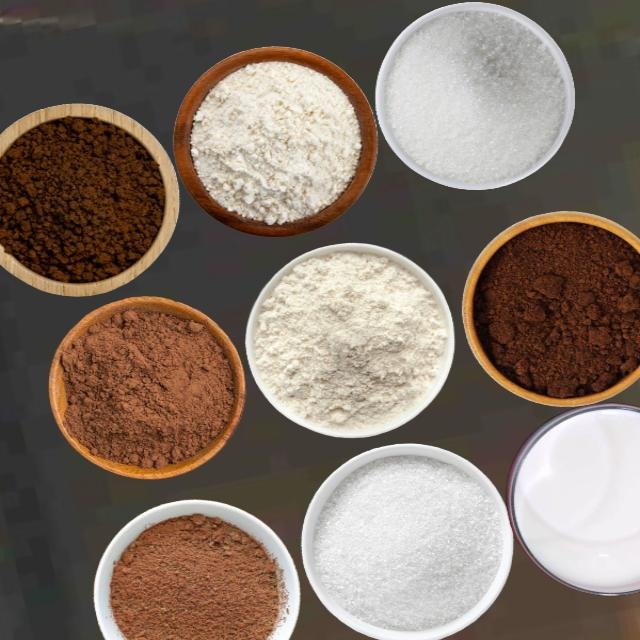Cocoa: (58, 297, 238, 475), (108, 512, 287, 639)
Coffee: (472, 218, 639, 399), (0, 114, 165, 283)
Flour: (251, 250, 447, 430), (189, 59, 361, 225)
Sugar: (312, 454, 502, 631), (383, 9, 566, 184)
